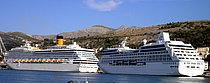Ship: (100, 30, 210, 80), (1, 34, 105, 77)
